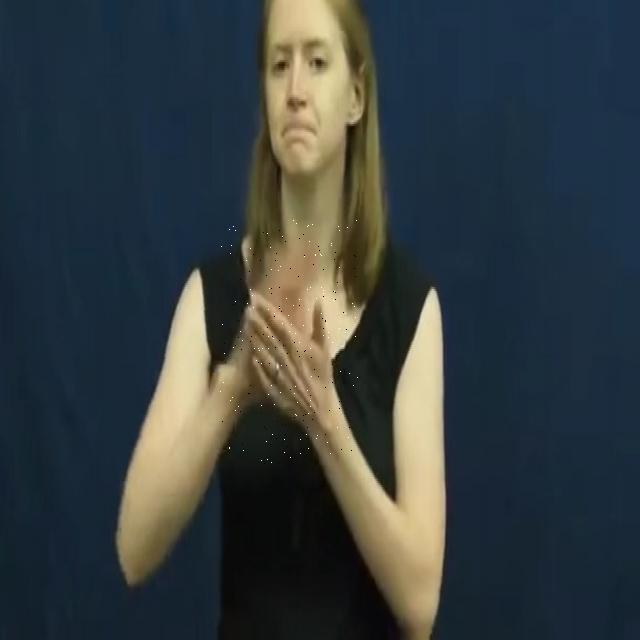fresh: (220, 220, 358, 464)
